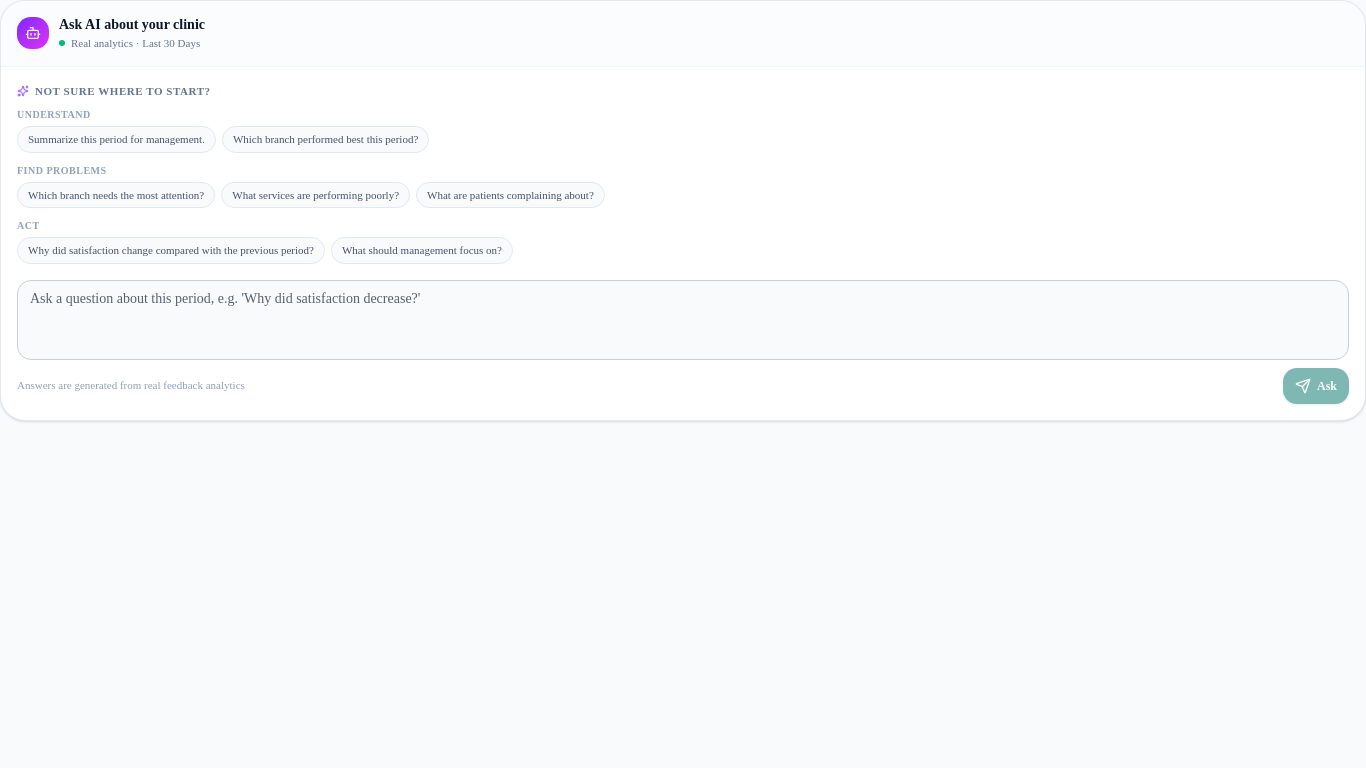
Scenario: AskAiPanel (legacy) › enables submit after typing a question
Replace the text in the text box named "Ask AI a question" with "Which branch needs attention?". click: (683, 320)
box: [17,280,1349,360]
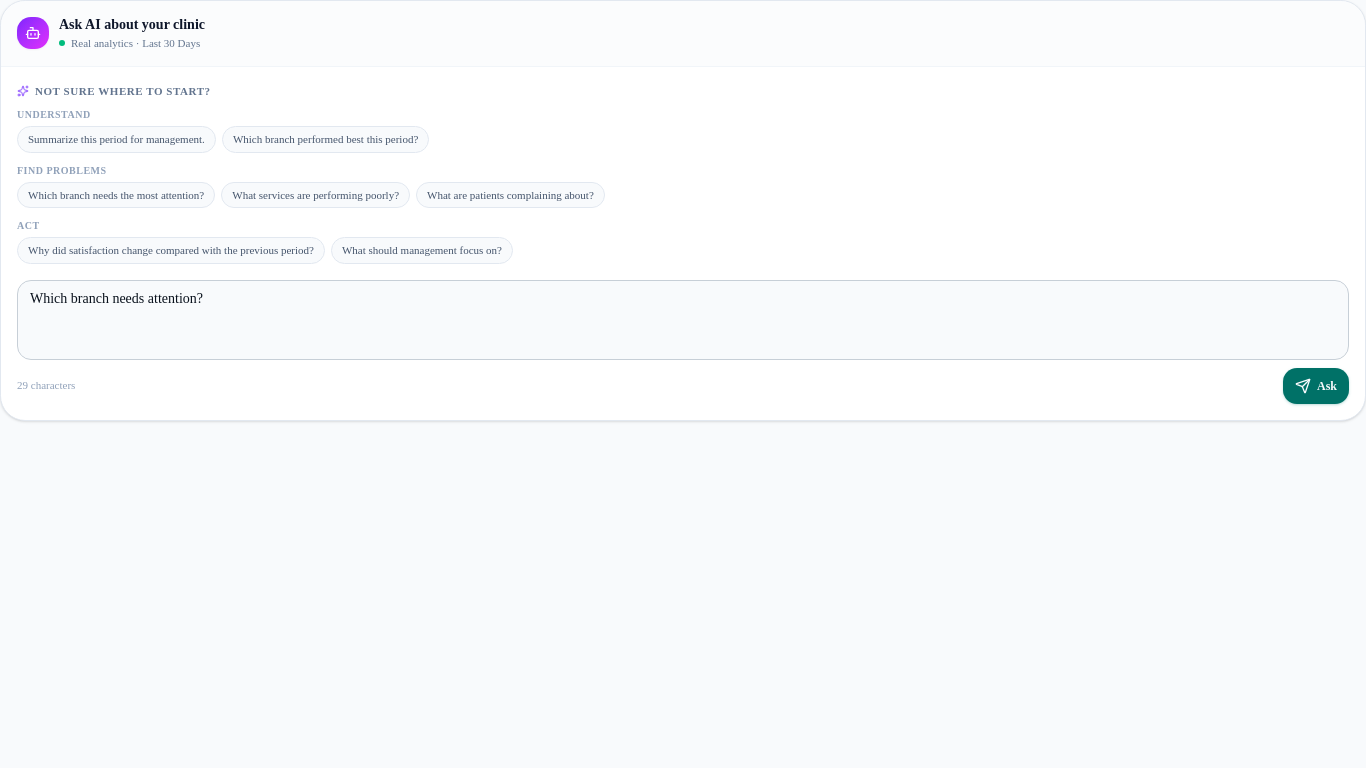
expect the button "Ask" is enabled: met
Click the button "Ask". click: (1316, 386)
box: [1283,368,1349,404]
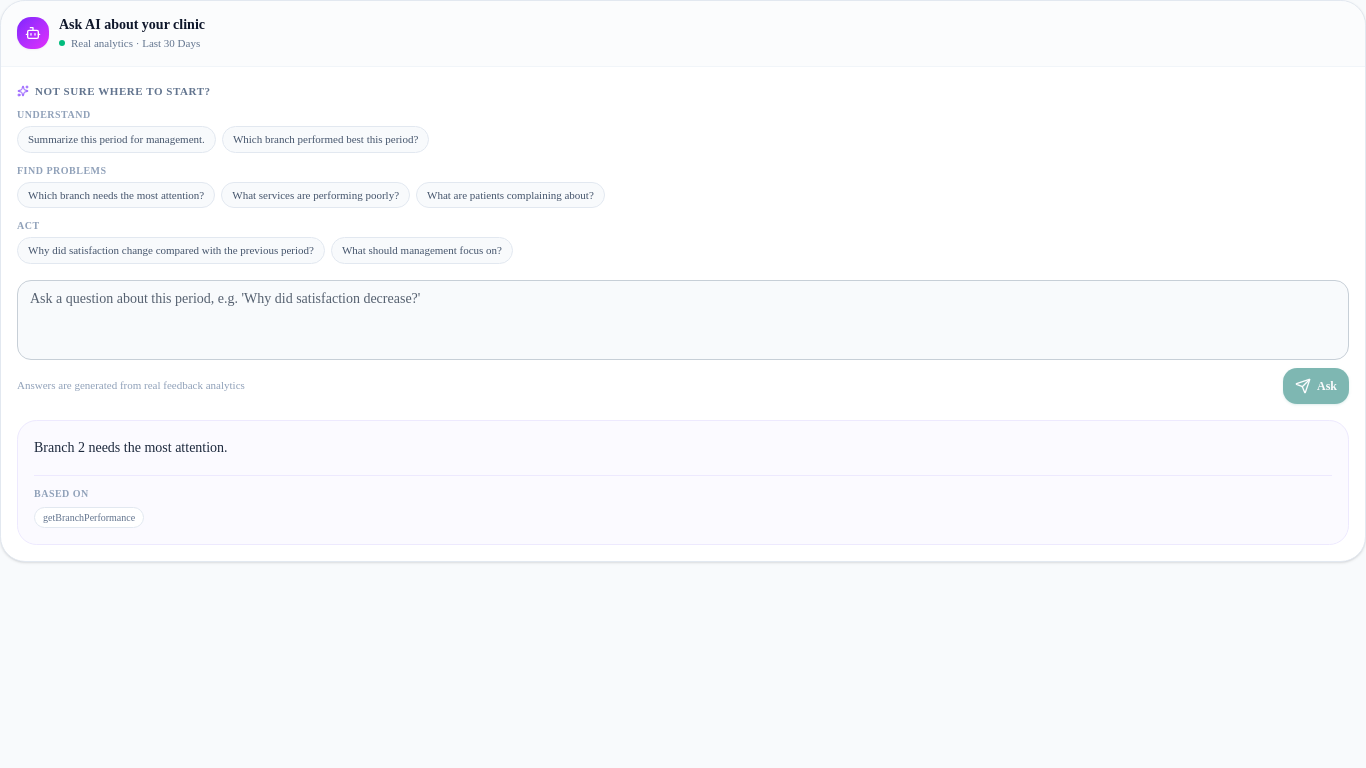
expect the text "Branch 2 needs the most attention." is shown: met, box [34,440,228,454]
expect the text "getBranchPerformance" is shown: met, box [34,507,144,528]
